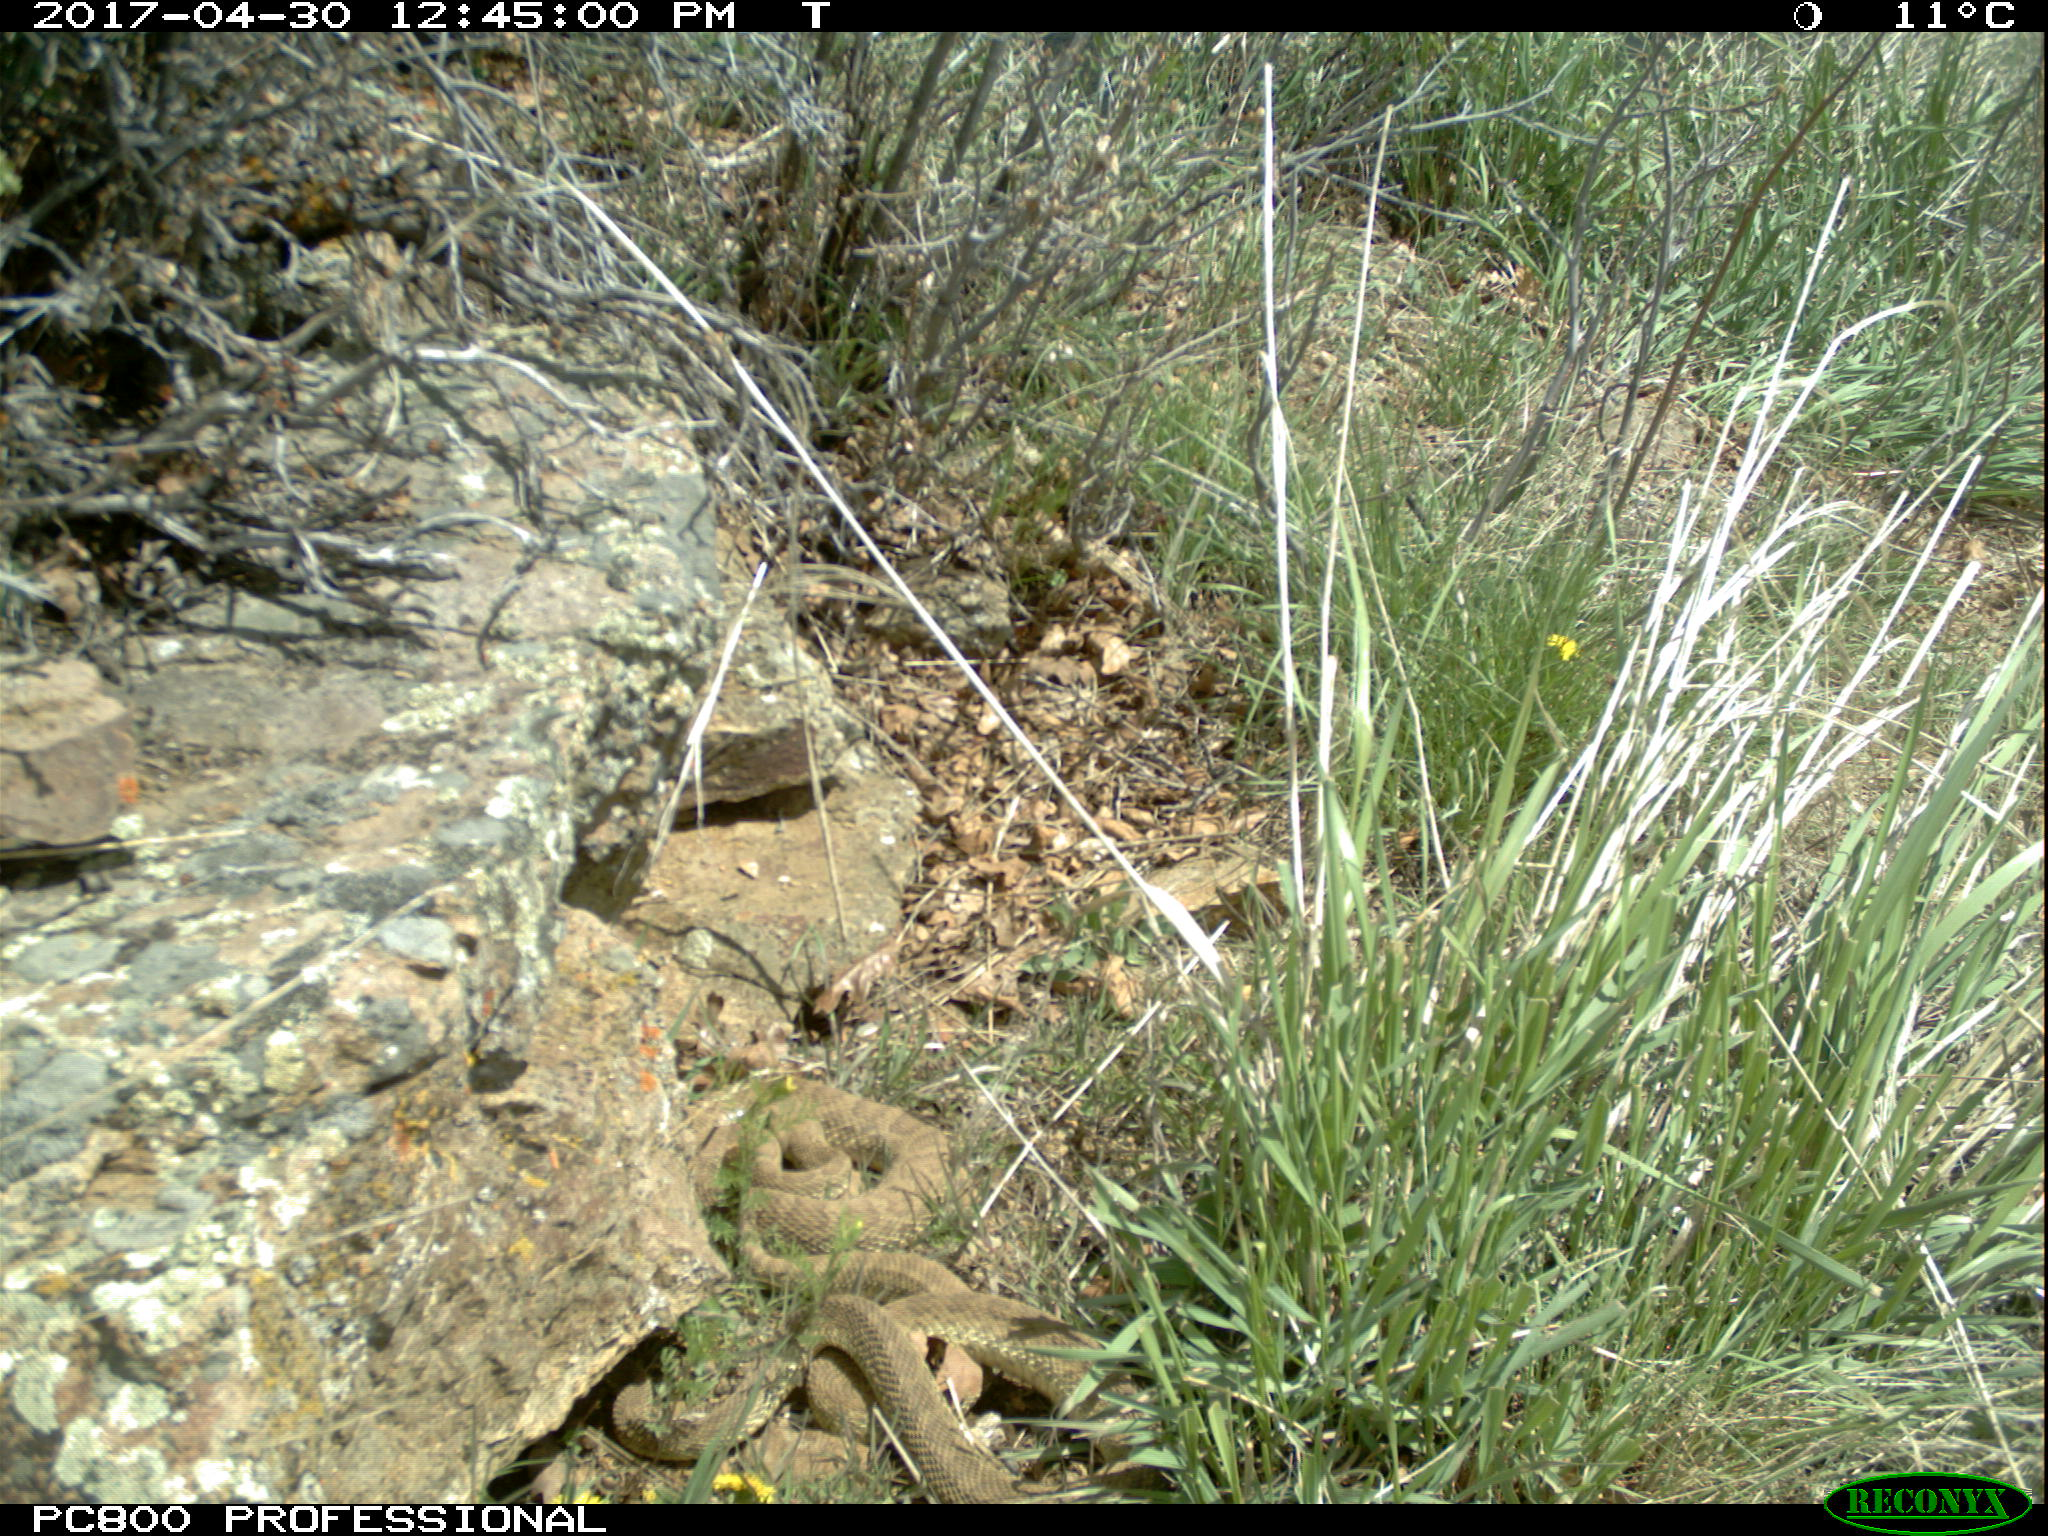snake: (593, 1079, 1150, 1505)
